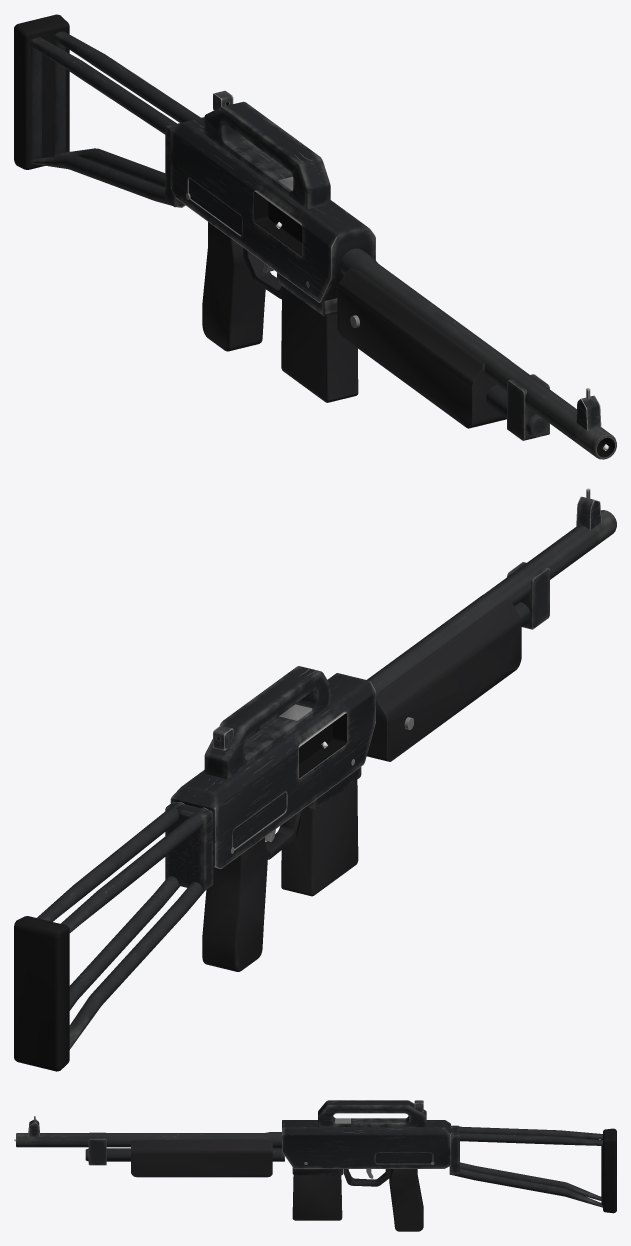
Rendered from Shotgun_Semi_SPAS15.fbx.
3 views of the same model, one above another, from view 1: azimuth 30°, elevation 25°; view 2: azimuth 150°, elevation 25°; view 3: azimuth 270°, elevation 25° (orthographic). The views are drawn at different scales.
Visible parts, largest first — view 1: Handle, Magazine; view 2: Handle, Magazine; view 3: Handle, Magazine.
Part boxes in pixels (left/top/right/bottom): Handle: left=14, top=14, right=616, bottom=459; Magazine: left=281, top=286, right=358, bottom=402; Handle: left=14, top=488, right=616, bottom=1071; Magazine: left=281, top=780, right=358, bottom=896; Handle: left=16, top=1100, right=616, bottom=1231; Magazine: left=292, top=1175, right=342, bottom=1220.
Size of the model in its own units: 0.1845 by 0.7859 by 3.41.
Materials: 2 (1 with a texture image).
